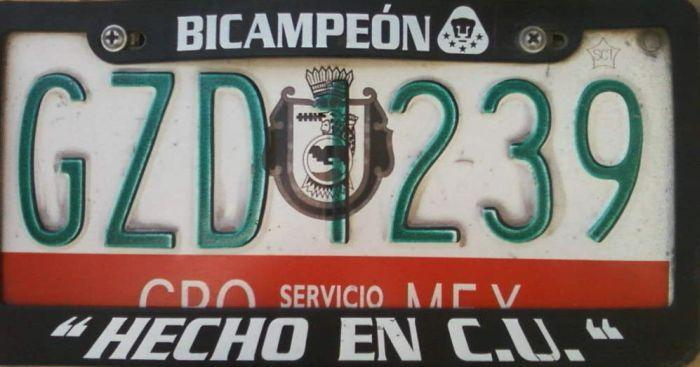Number plate: (4, 3, 689, 365)
